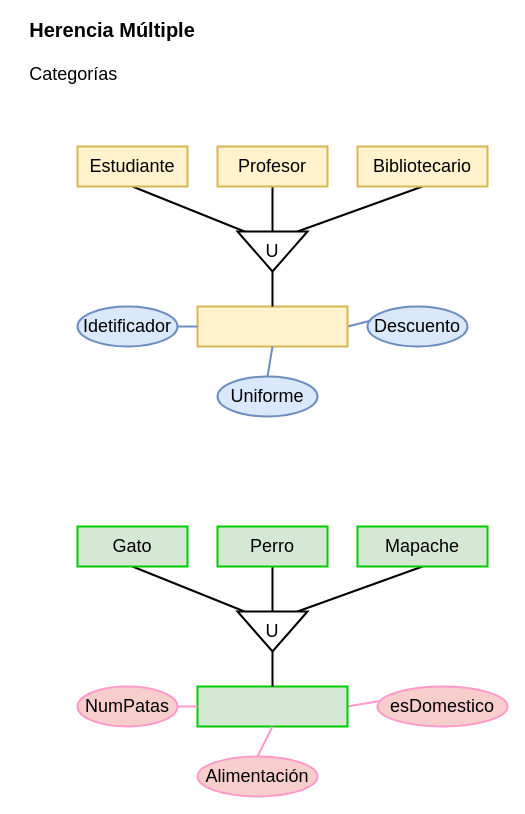
The diagram is 525 pixels wide and 814 high, and some of its shapes have lost their labels. Each missing label, with the centre of its shape:
"Animal" goes at point (272, 706).
"PersonalUNAM" goes at point (272, 326).
